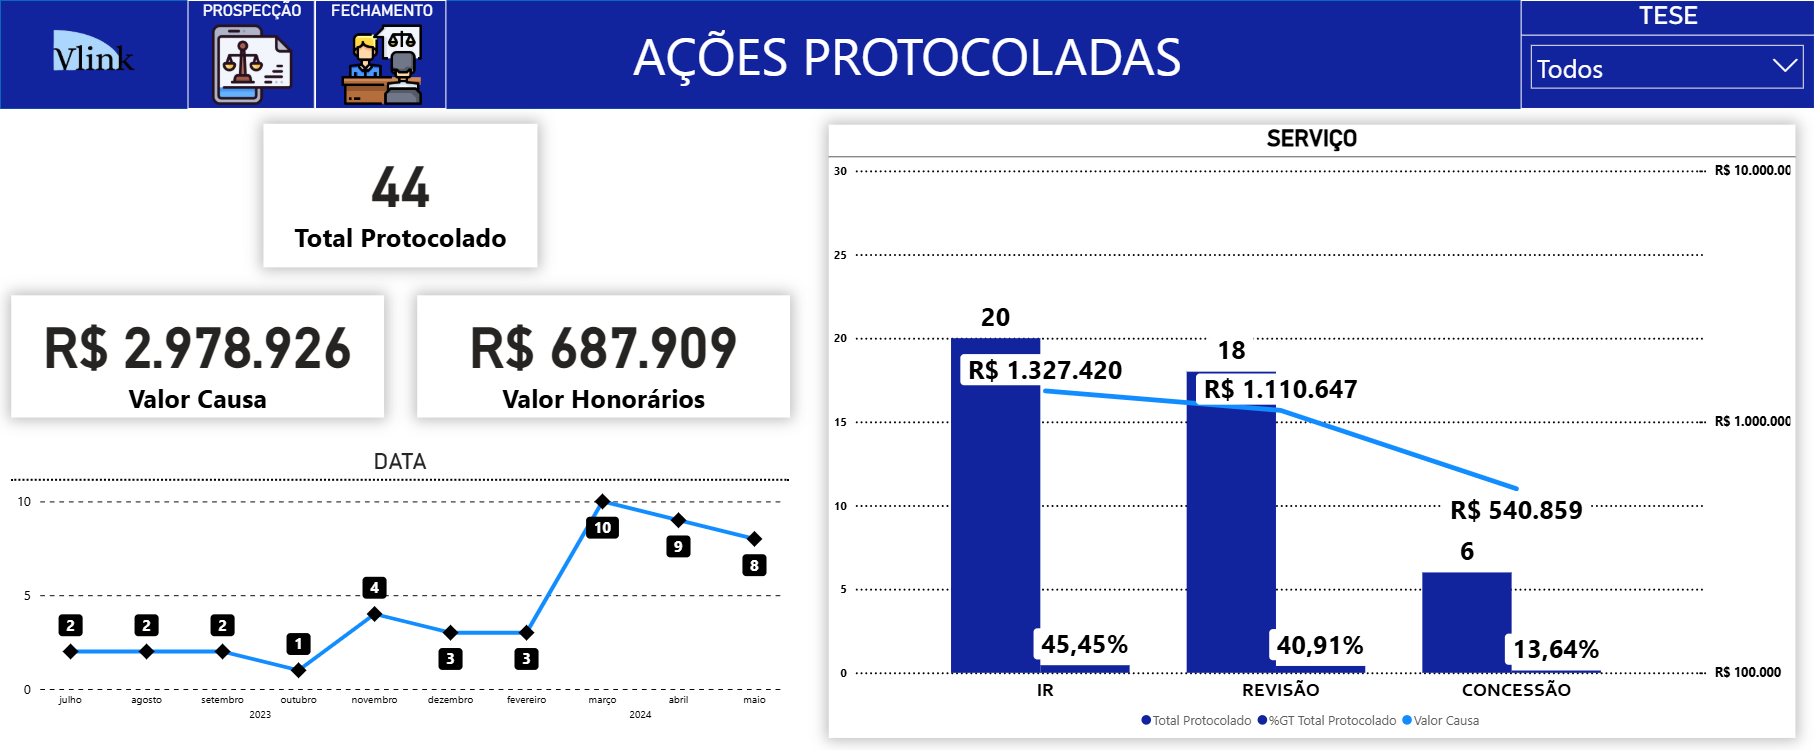

The page's visual inventory and layout, read from the dashboard file:
{"tool":"powerbi","page":{"name":"PROTOCOLADO","canvas":[1900,800],"ordinal":5},"visuals":[{"type":"shape","box":[0,0,1900.3,114.6],"z":0},{"type":"image","title":"FECHAMENTO","box":[329.7,0,138.1,113.9],"z":2000},{"type":"image","title":"PROSPECÇÃO","box":[196.8,0,132.9,113.9],"z":3000},{"type":"card","fields":{"Values":["Protocolado.Total Protocolado"]},"box":[276.2,129.5,286.5,150.2],"z":4000},{"type":"card","fields":{"Values":["Protocolado.Valor Causa"]},"box":[12.1,309,390.1,127.7],"z":5000},{"type":"card","fields":{"Values":["Protocolado.Valor Honorários"]},"box":[436.7,309,390.1,127.7],"z":6000},{"type":"slicer","title":"TESE","fields":{"Values":["Protocolado.TESE"]},"box":[1592.5,0,307.8,114.3],"z":7000},{"type":"lineClusteredColumnComboChart","title":"SERVIÇO","fields":{"Category":["Protocolado.TESE"],"Y":["Protocolado.Total Protocolado","Divide(Protocolado.Total Protocolado, ScopedEval(Protocolado.Total Protocolado, []))"],"Y2":["Protocolado.Valor Causa"]},"box":[867.7,130.4,1012.3,641.6],"z":8000},{"type":"lineChart","title":"DATA","fields":{"Category":["Protocolado.Data Distribuição.Variation.Hierarquia de datas.Ano","Protocolado.Data Distribuição.Variation.Hierarquia de datas.Mês"],"Y":["Protocolado.Total Protocolado"]},"box":[12.2,468.5,814.8,303.5],"z":9000},{"type":"image","box":[0,0,196.8,113.9],"z":9001}]}

Visuals, with their boxes in screenshot pixels (x1, y1, x2, y2), scaled from the page's 1900x800 canvas onto the 1816x750 screenshot:
shape: {"x1": 0, "y1": 0, "x2": 1815, "y2": 107}
"FECHAMENTO" image: {"x1": 315, "y1": 0, "x2": 447, "y2": 107}
"PROSPECÇÃO" image: {"x1": 188, "y1": 0, "x2": 315, "y2": 107}
card - Protocolado.Total Protocolado: {"x1": 264, "y1": 121, "x2": 538, "y2": 262}
card - Protocolado.Valor Causa: {"x1": 12, "y1": 290, "x2": 384, "y2": 409}
card - Protocolado.Valor Honorários: {"x1": 417, "y1": 290, "x2": 790, "y2": 409}
"TESE" slicer: {"x1": 1522, "y1": 0, "x2": 1815, "y2": 107}
"SERVIÇO" lineClusteredColumnComboChart: {"x1": 829, "y1": 122, "x2": 1797, "y2": 724}
"DATA" lineChart: {"x1": 12, "y1": 439, "x2": 790, "y2": 724}
image: {"x1": 0, "y1": 0, "x2": 188, "y2": 107}
